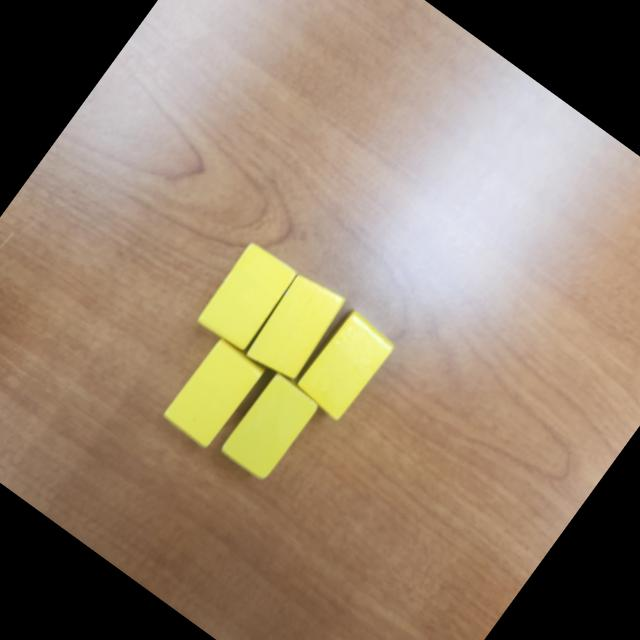yellow: (158, 334, 268, 452), (289, 307, 398, 424), (241, 268, 349, 385), (193, 240, 300, 356), (218, 369, 323, 484)
